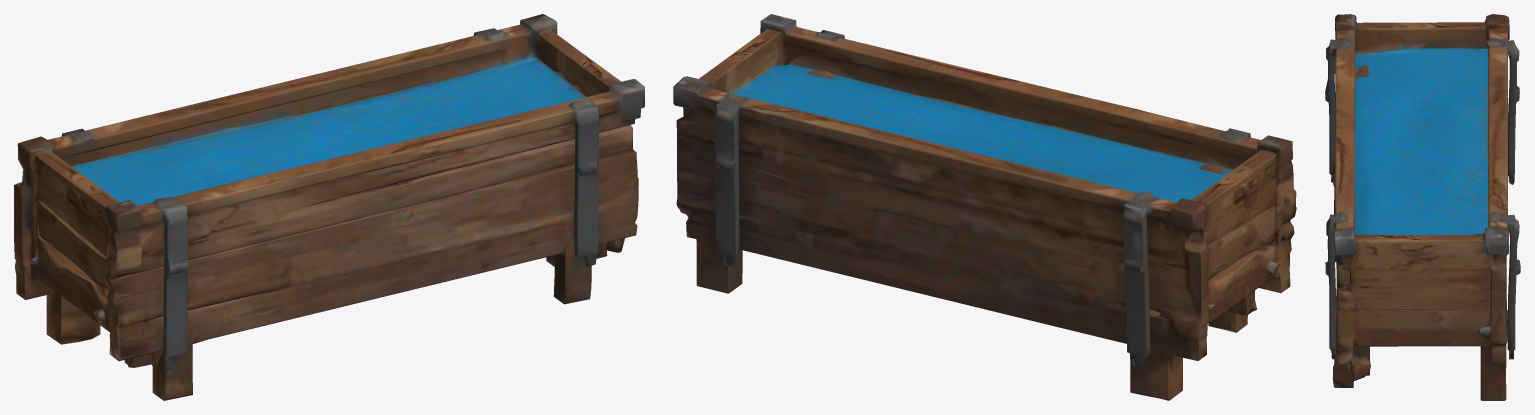
The model's file is watertrough.glb.
3 views of the same model, side by side, from view 1: azimuth 30°, elevation 25°; view 2: azimuth 150°, elevation 25°; view 3: azimuth 270°, elevation 25° (orthographic). The views are drawn at different scales.
Parts seen in each view (by area): view 1: WatertroughBody; view 2: WatertroughBody; view 3: WatertroughBody.
Boxes of the visible parts, x1,y1,x2,y2 form: WatertroughBody: [14, 14, 644, 400]; WatertroughBody: [673, 14, 1296, 400]; WatertroughBody: [1325, 14, 1520, 400].
Size of the model in its own units: 1.5 by 0.5417 by 0.5481.
Materials: 1 (1 with a texture image).
